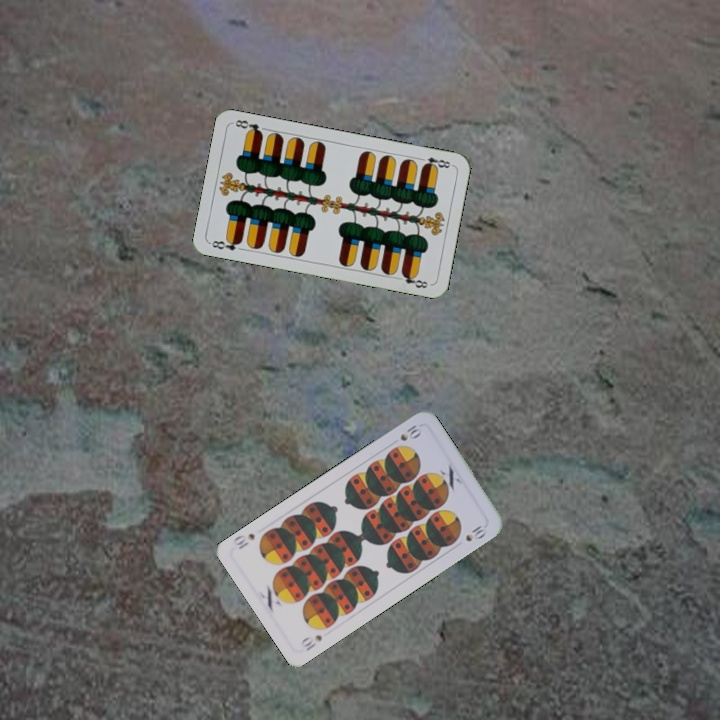E8: (415, 153, 455, 172), (207, 234, 244, 253)
S10: (396, 419, 424, 444), (296, 631, 325, 653)
